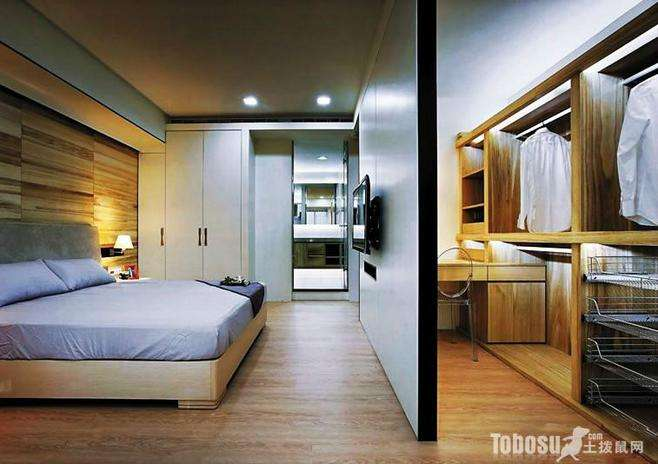床: (0, 274, 250, 409)
枕头: (2, 258, 113, 303)
灯: (103, 234, 138, 262), (237, 93, 258, 113), (311, 92, 329, 111)
